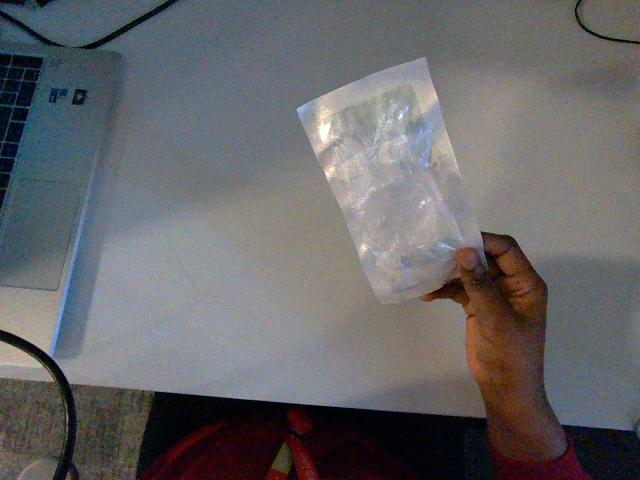gallipot: (298, 58, 482, 302)
